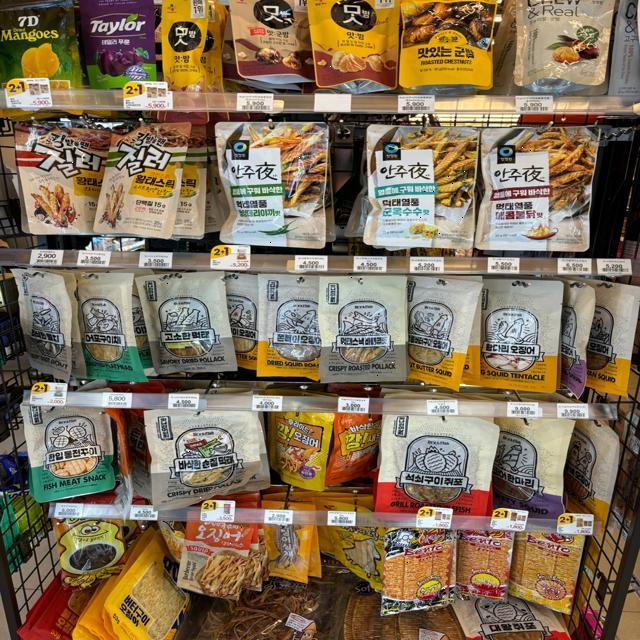product: (484, 123, 593, 253), (365, 125, 477, 250), (219, 122, 327, 244), (148, 409, 271, 504), (387, 410, 492, 519), (320, 272, 409, 382), (142, 273, 237, 372), (100, 122, 184, 233), (26, 401, 116, 502), (16, 124, 96, 230), (307, 2, 400, 89), (401, 1, 496, 83), (385, 525, 457, 614), (177, 519, 253, 596)
